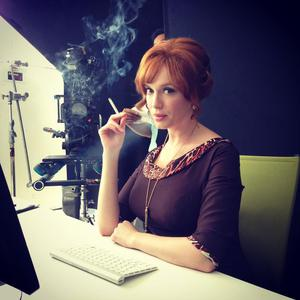cigarette: (102, 96, 122, 115)
